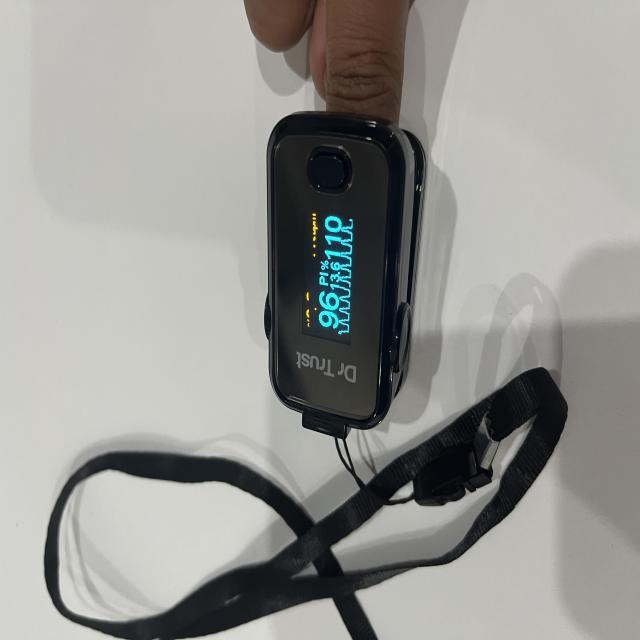spo2: (265, 112, 428, 439)
